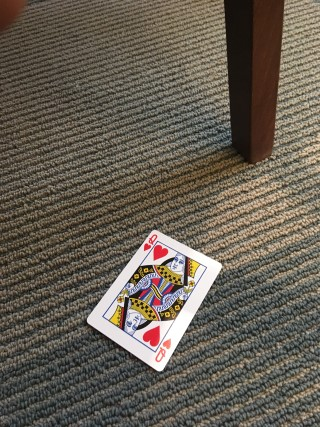QueenOfHearts: (85, 229, 224, 373)
